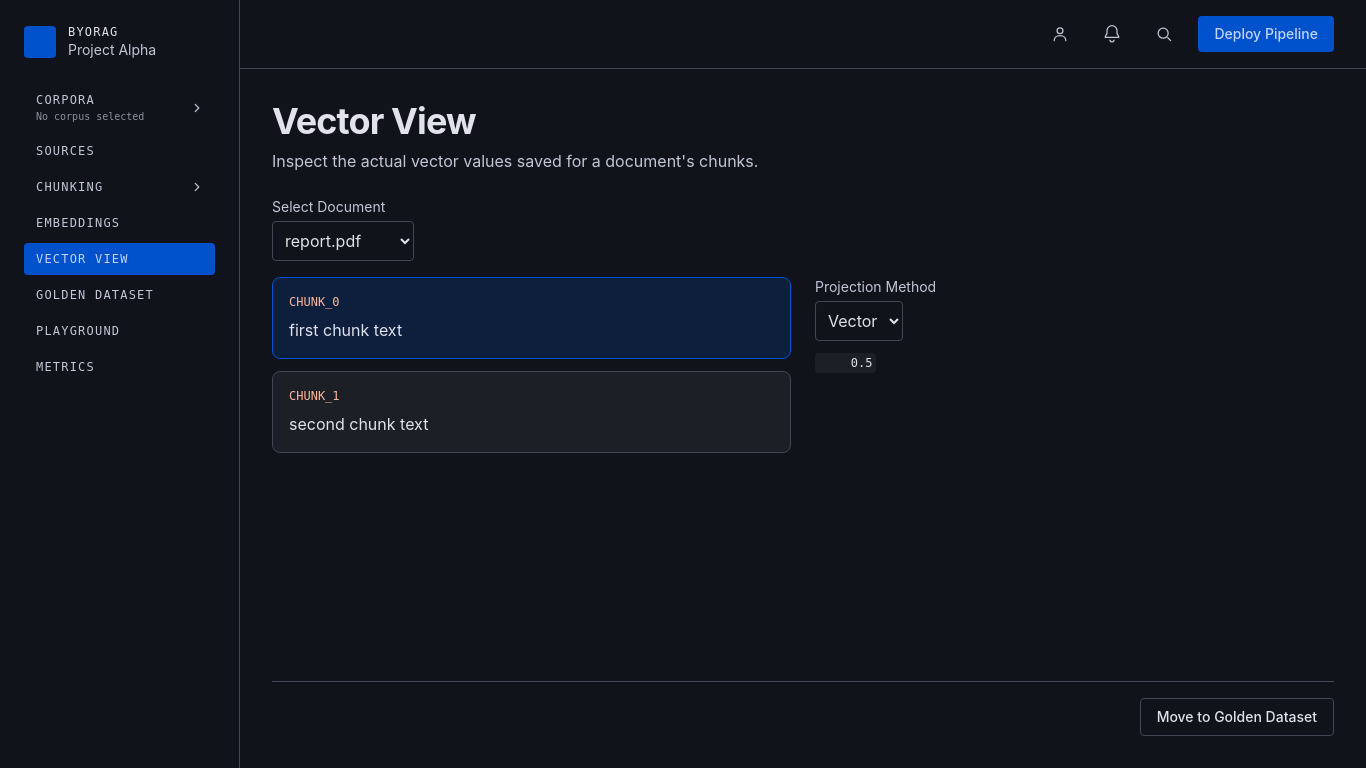
it: VectorViewScreen — projection method dropdown (014-vector-view-screen US3) › restores the grid when switching back to "Vector"
Select "UMAP" in the dropdown labelled "Projection Method" at (859, 321), box [815, 301, 903, 341]
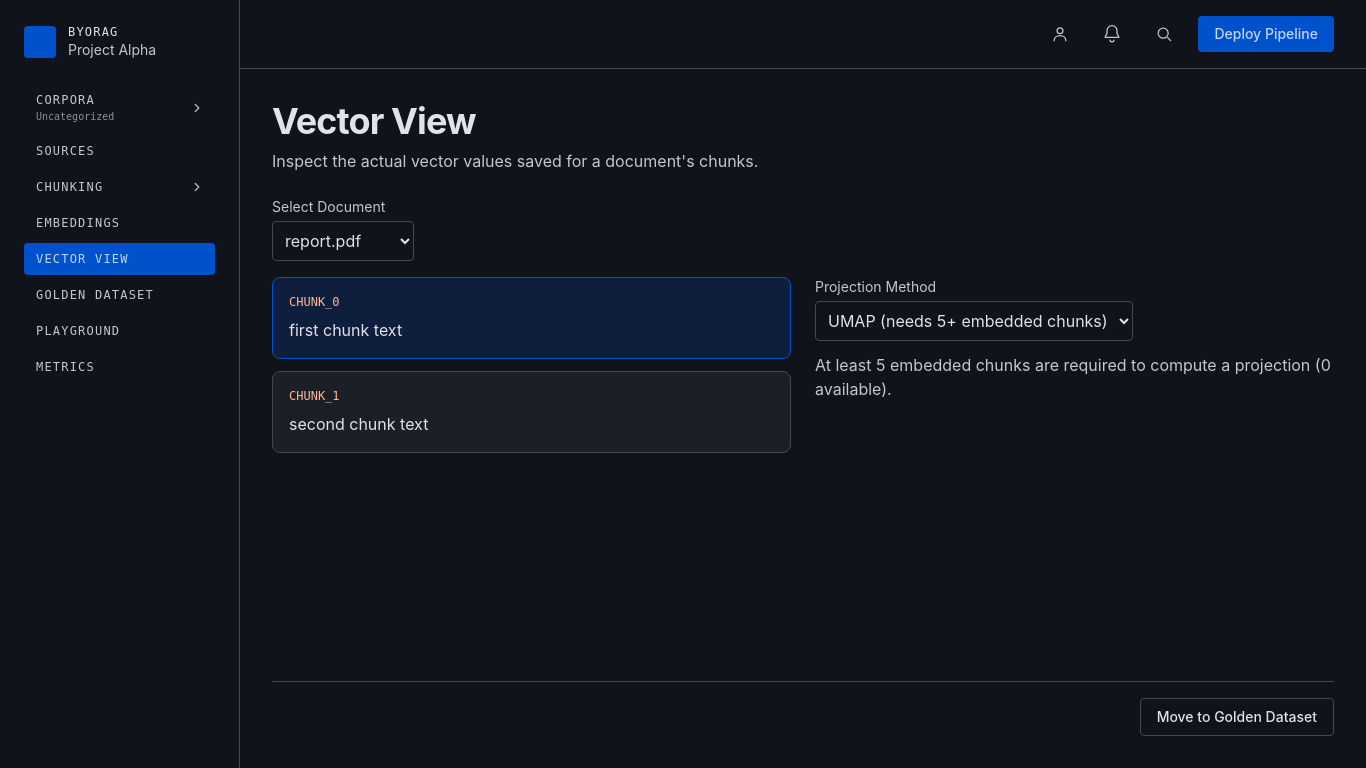
Now the text with test id "projection-minimum-message" is shown, box [815, 353, 1334, 401]
Select "Vector" in the dropdown labelled "Projection Method" at (974, 321), box [815, 301, 1133, 341]
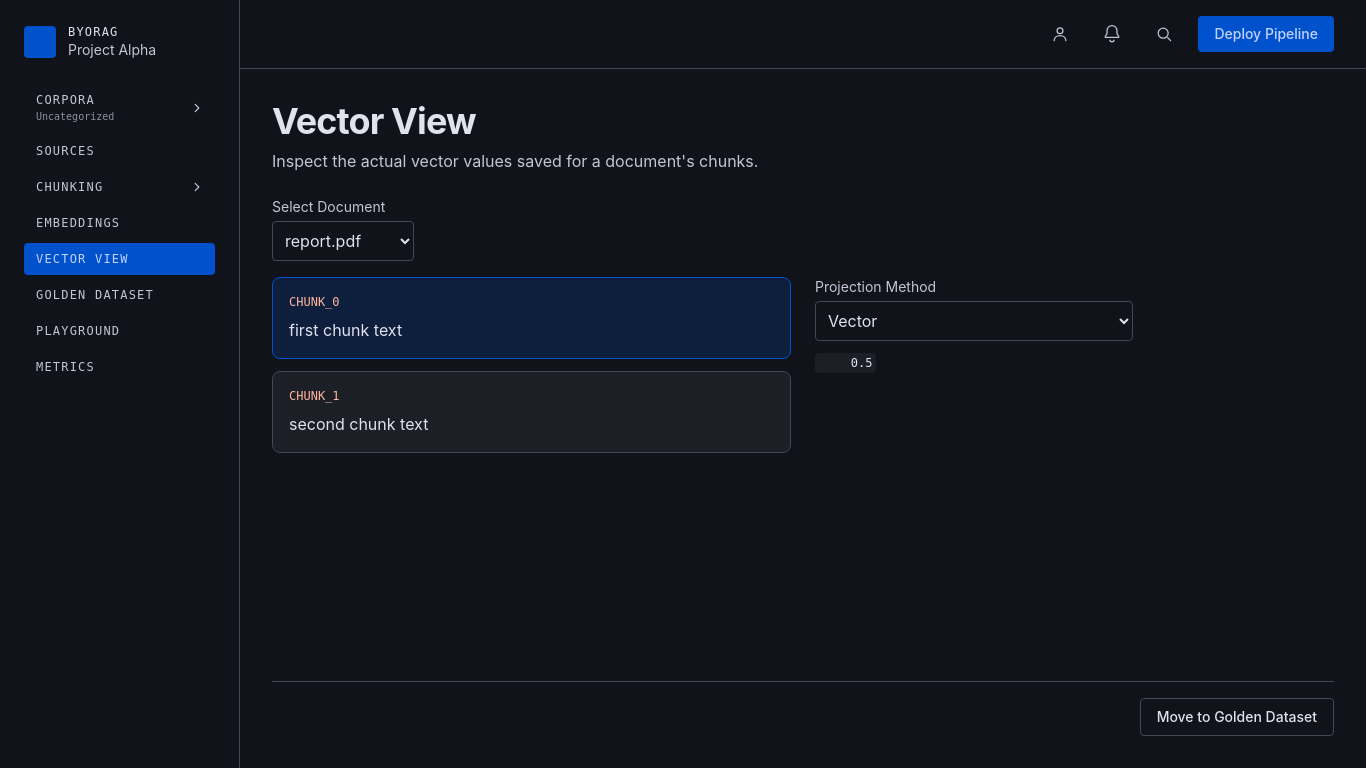
Now the element with test id "vector-grid" is shown, box [815, 353, 876, 373]
Now the text with test id "projection-minimum-message" is gone
